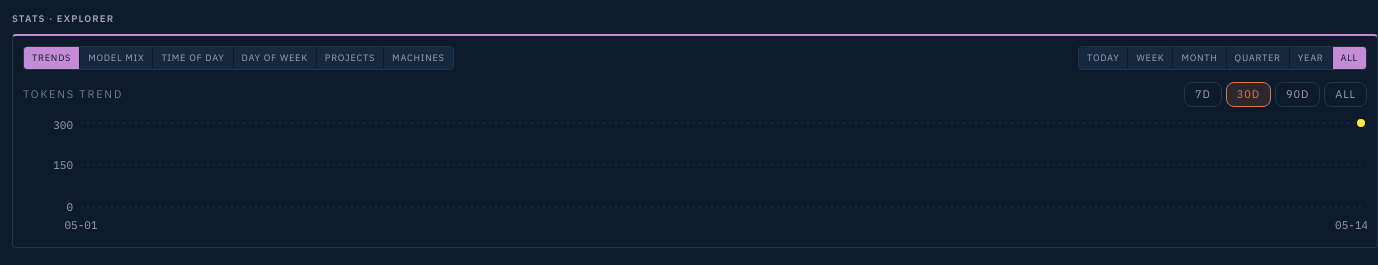
Test: StatsExplorer › switches to the projects tab and renders project names
Click the radio button labelled "projects" at (350, 58), box x1=317 y1=47 x2=383 y2=69
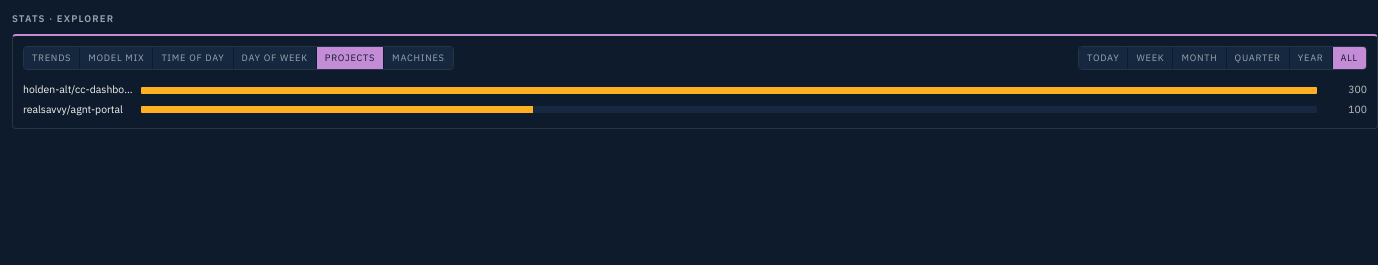
Expected: the element showing "holden-alt/cc-dashboard 300 realsavvy/agnt-portal 100" is shown, x1=23 y1=82 x2=1367 y2=118
